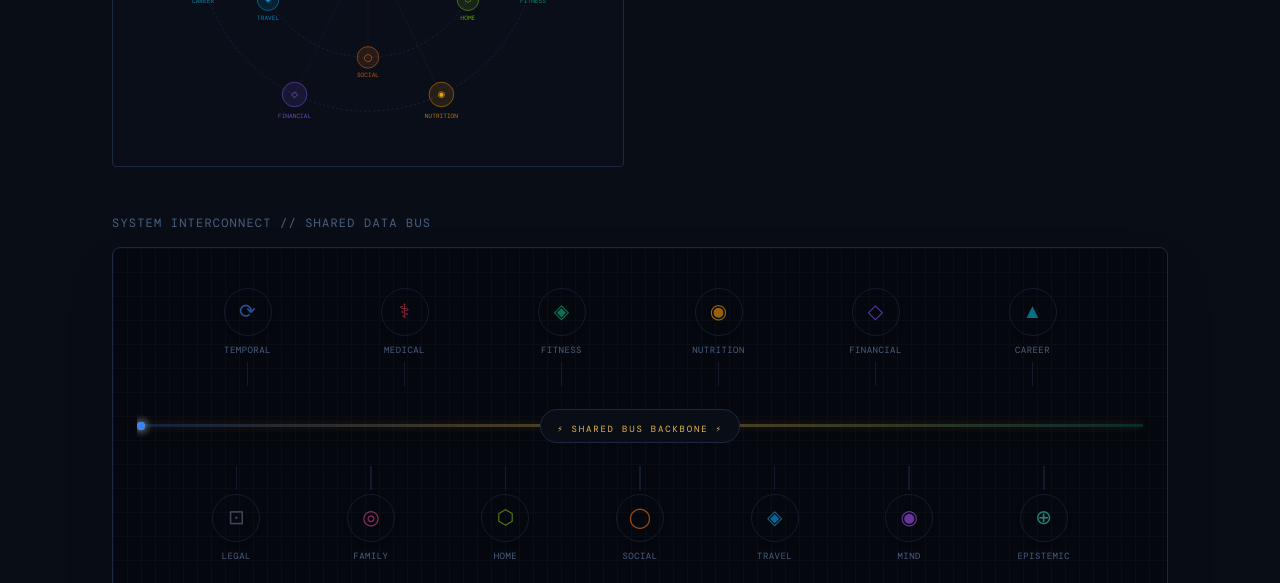
Test: InteractiveDashboard › clears active node when clear lock button is clicked
The image size is (1280, 583).
(page scrolled)
# Click on Fitness node (03) to lock it
Click the button with id "shared-bus-node-03".
click(562, 312)  # box [538, 288, 586, 336]
(page scrolled)
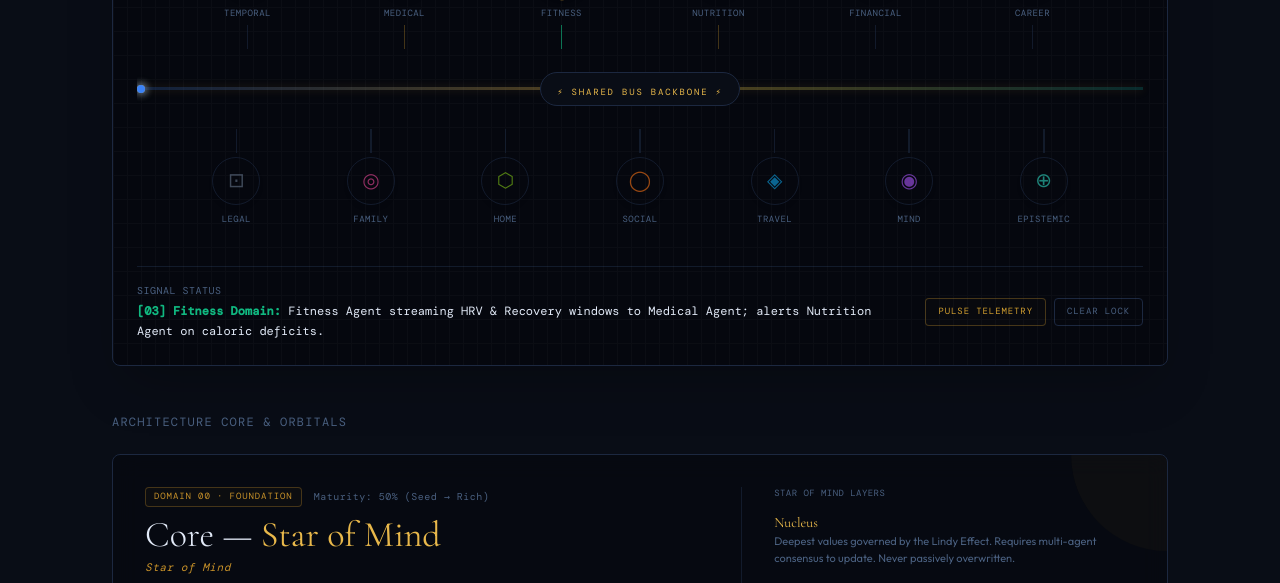
Expected: the button with id "bus-clear-trigger" is shown
Click the button with id "bus-clear-trigger".
click(1098, 312)  # box [1054, 298, 1143, 326]
(page scrolled)
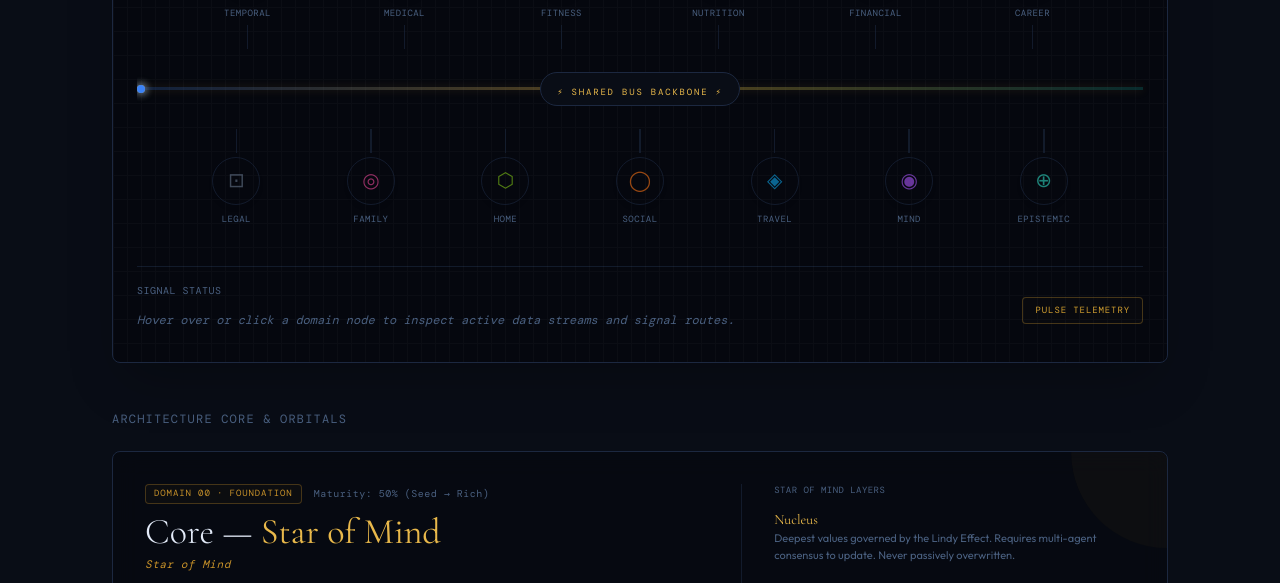
Expected: the text "Hover over or click a domain node" is shown, [137, 312, 735, 328]
